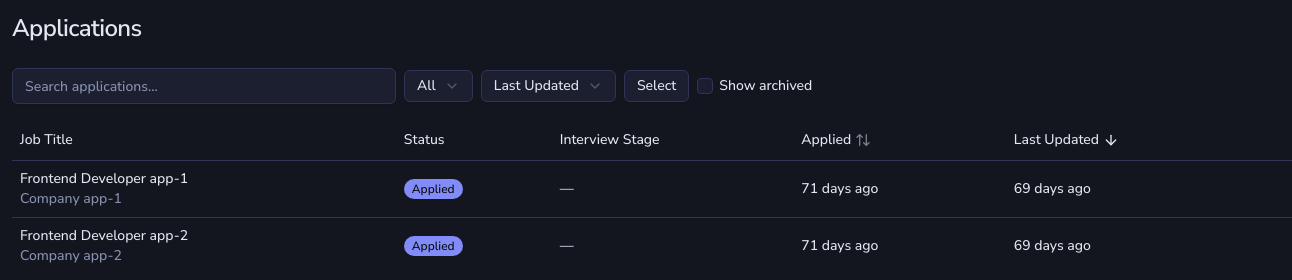
Test: ApplicationsList › multi-select mode › enters select mode when Select button is clicked
Click the button with test id "select-mode-button".
click(657, 86)  # box 624,70 -> 689,102
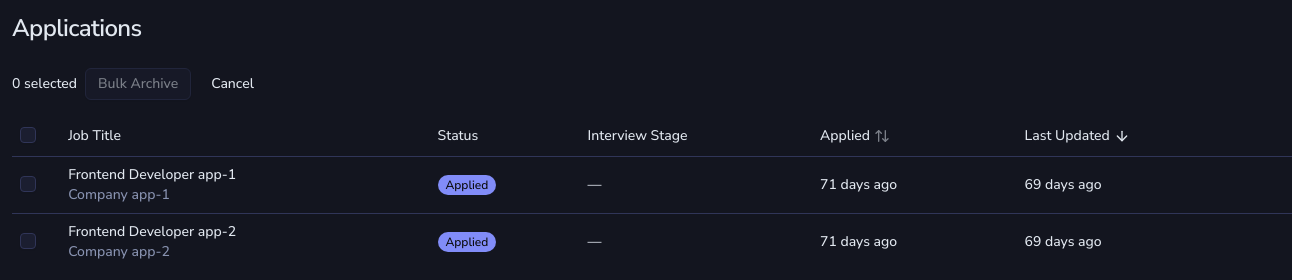
Check: the element with test id "selection-action-bar" is shown, box 12,68 -> 266,100
Check: the text with test id "selected-count" reads "0 selected", box 12,74 -> 77,94
